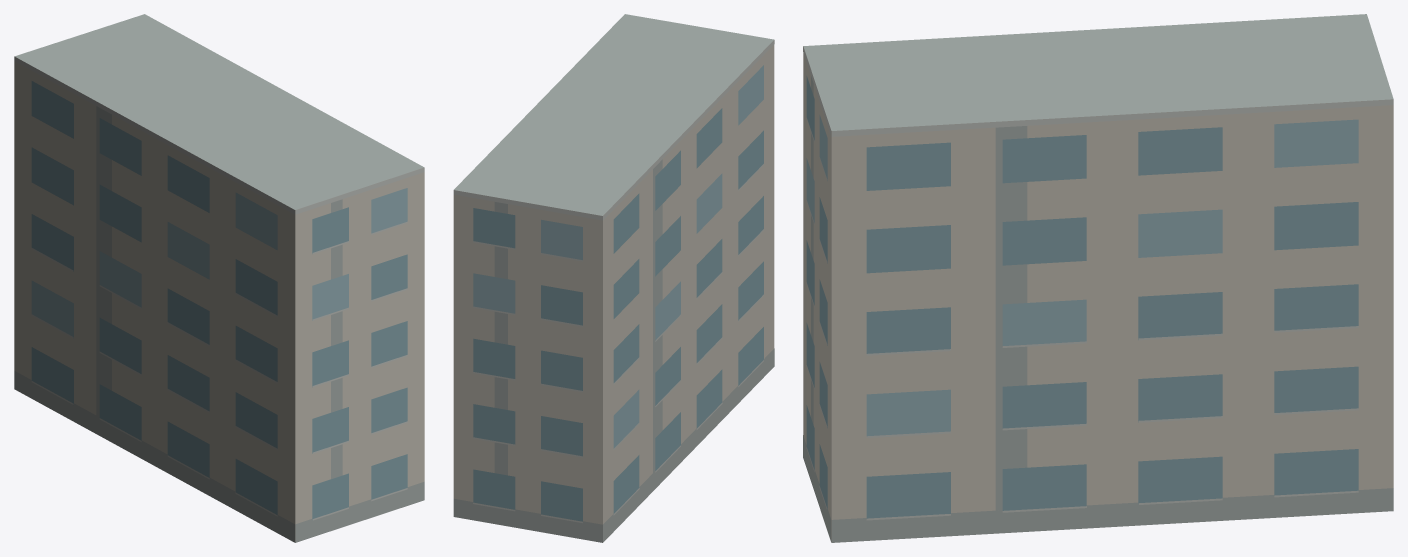
File: survey-upis-32962660.glb
3 renders of one model, left to right at view 1: azimuth 30°, elevation 25°; view 2: azimuth 150°, elevation 25°; view 3: azimuth 270°, elevation 25°, orthographic. The views are drawn at different scales.
Parts seen in each view (by area): view 1: survey-upis-32962660.tmp; view 2: survey-upis-32962660.tmp; view 3: survey-upis-32962660.tmp.
Part boxes in pixels (x1,y1,x2,y2): survey-upis-32962660.tmp: (14,14,424,542); survey-upis-32962660.tmp: (453,14,774,542); survey-upis-32962660.tmp: (803,14,1393,542).
Bounding box in the file's own units: 10.5 × 17.2 × 22.36.
